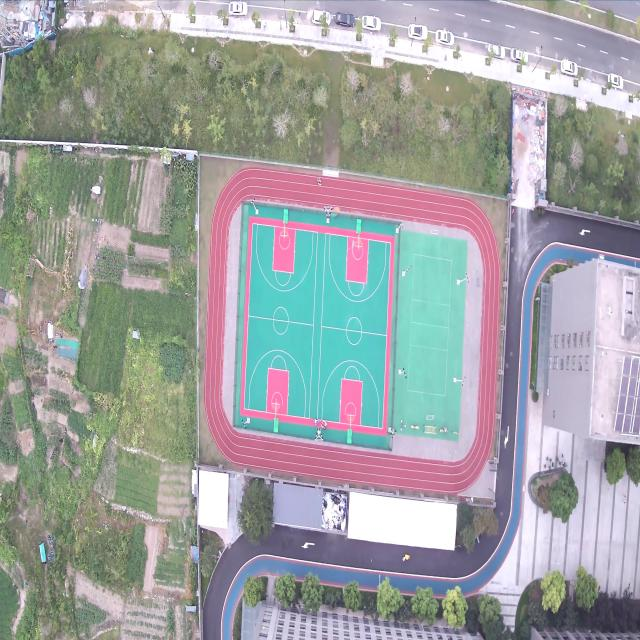UAV: (348, 238, 356, 252)
